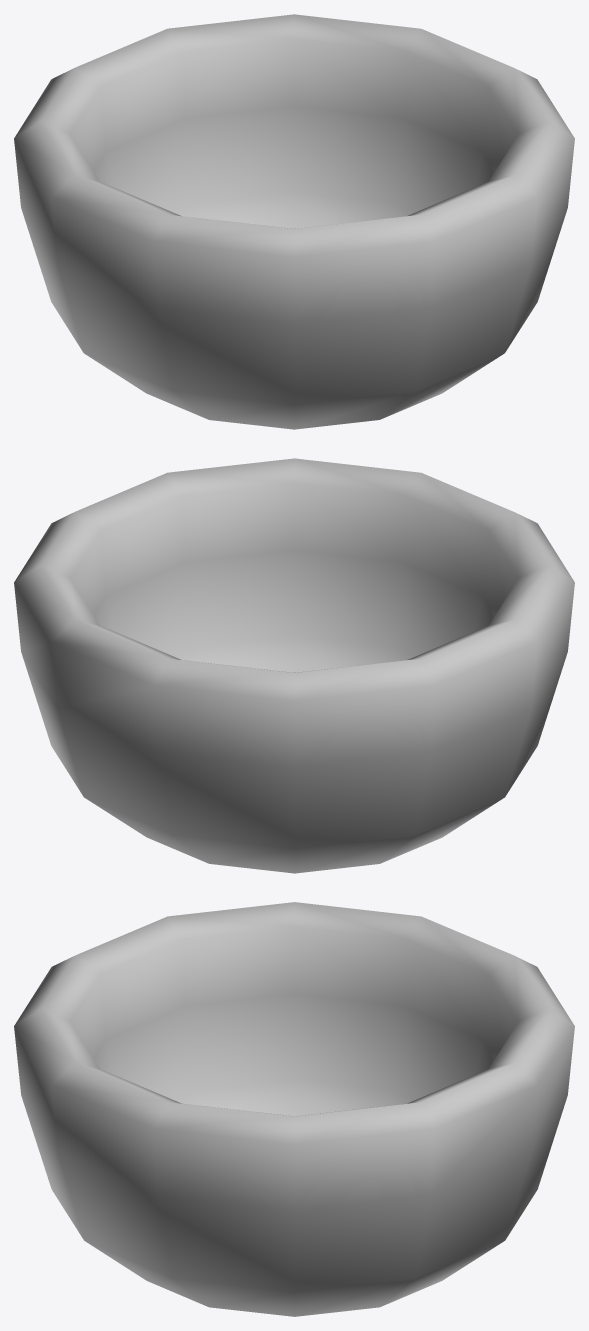
The model's file is frl_apartment_bowl_06.glb.
3 views of the same model, one above another, from view 1: azimuth 30°, elevation 25°; view 2: azimuth 150°, elevation 25°; view 3: azimuth 270°, elevation 25° (orthographic).
Parts seen in each view (by area): view 1: frl_apartment_bowl_06; view 2: frl_apartment_bowl_06; view 3: frl_apartment_bowl_06.
Part boxes in pixels (x1,y1,x2,y2): frl_apartment_bowl_06: (14,14,574,429); frl_apartment_bowl_06: (14,458,574,873); frl_apartment_bowl_06: (14,902,574,1316).
Bounding box in the file's own units: 0.1605 × 0.0744 × 0.1606.
Materials: 1 (1 with a texture image).
